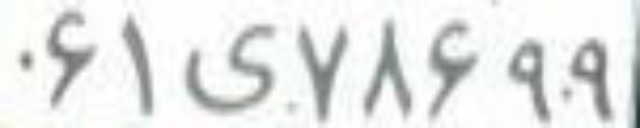1: (118, 11, 156, 115)
6: (37, 11, 102, 111), (424, 23, 478, 119)
7: (292, 20, 348, 120)
8: (357, 19, 413, 119)
9: (565, 38, 614, 121), (503, 41, 552, 123)
ye: (181, 21, 282, 111)
